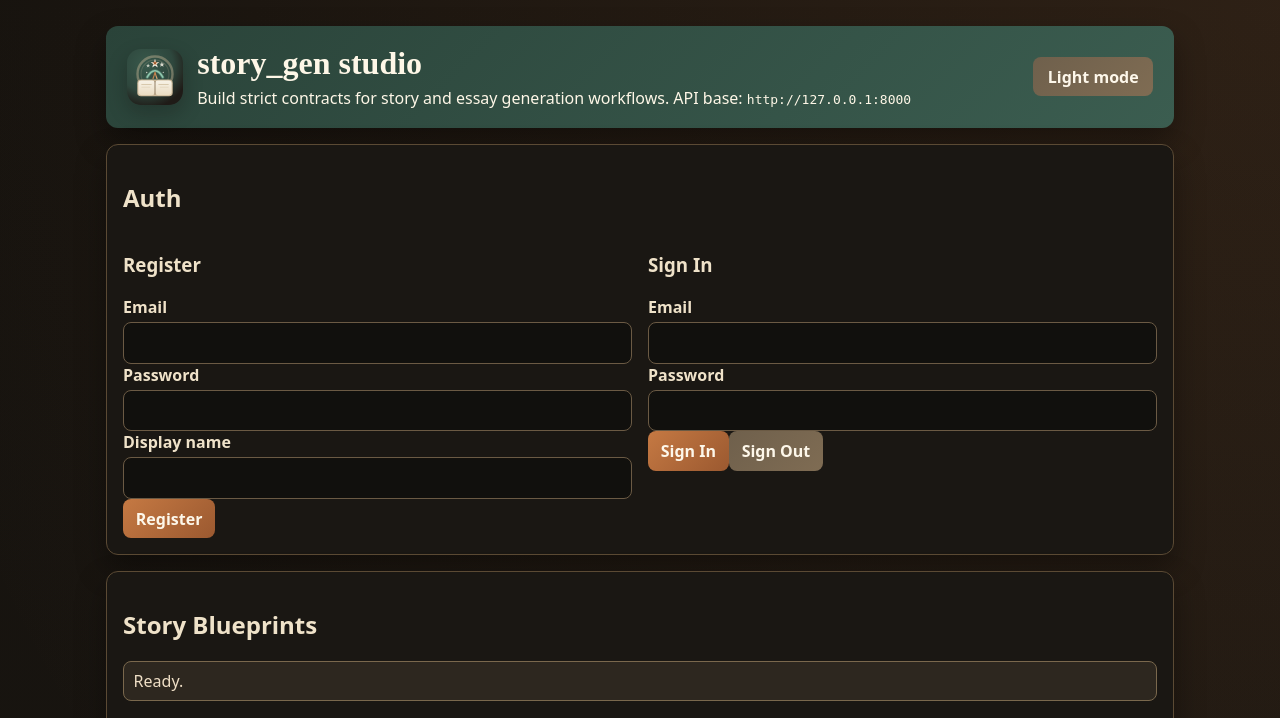
Test: App › handles registration errors
The width and height of the screenshot is (1280, 718).
Step 1. Type "writer@example.com" into the 1st field labelled "Email" → (378, 343), box [123,322,632,364]
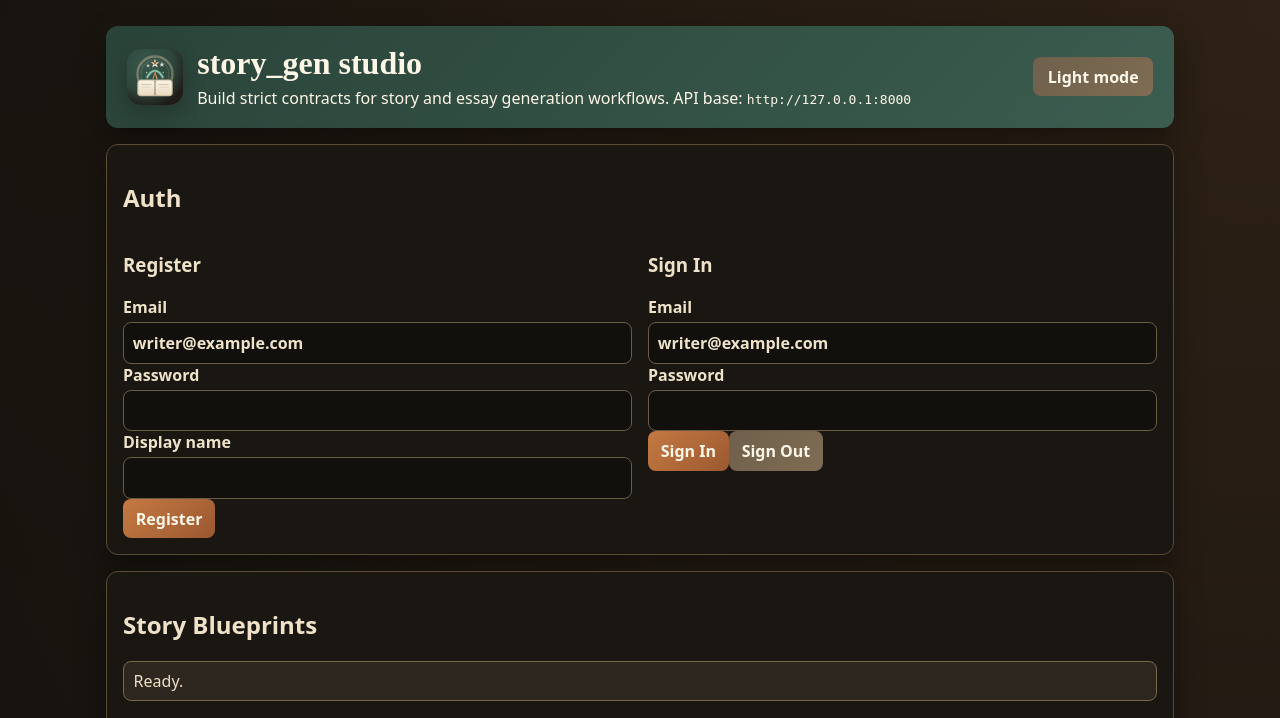
Step 2. Type "secret123" into the 1st password field labelled "Password" → (378, 410), box [123,390,632,431]
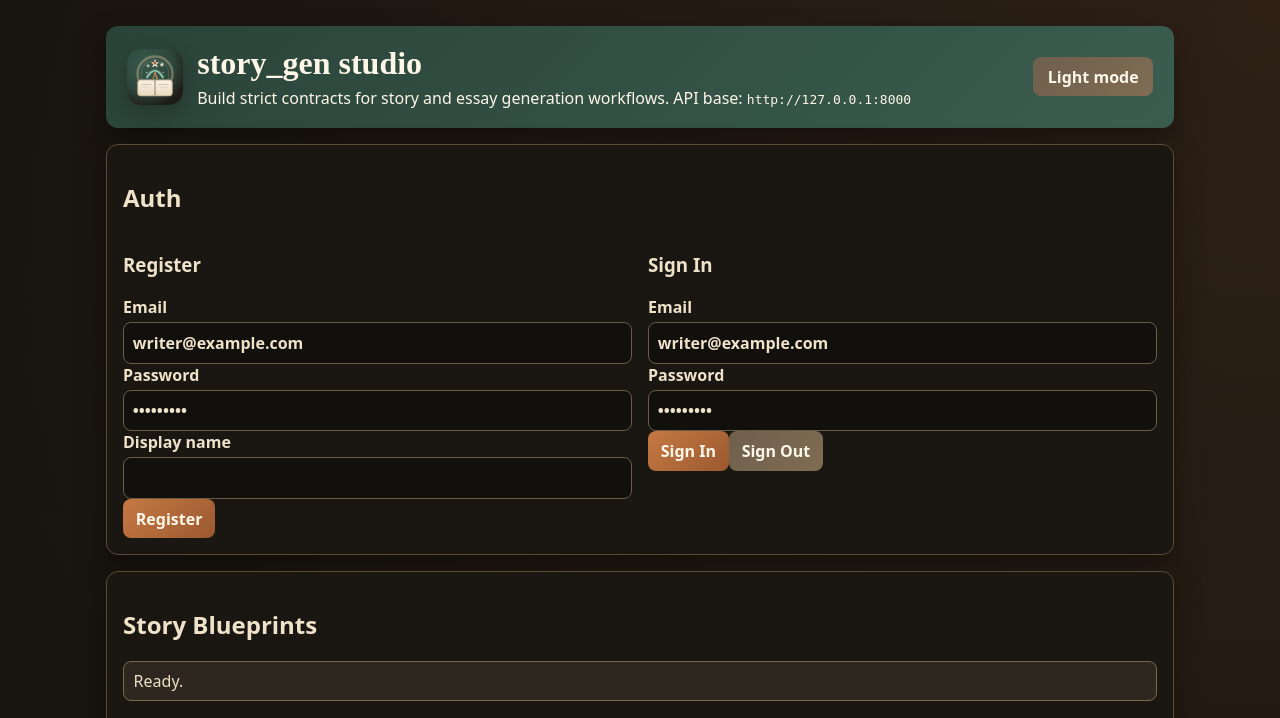
Step 3. Click the button "Register" → click(169, 519), box [123,499,215,538]
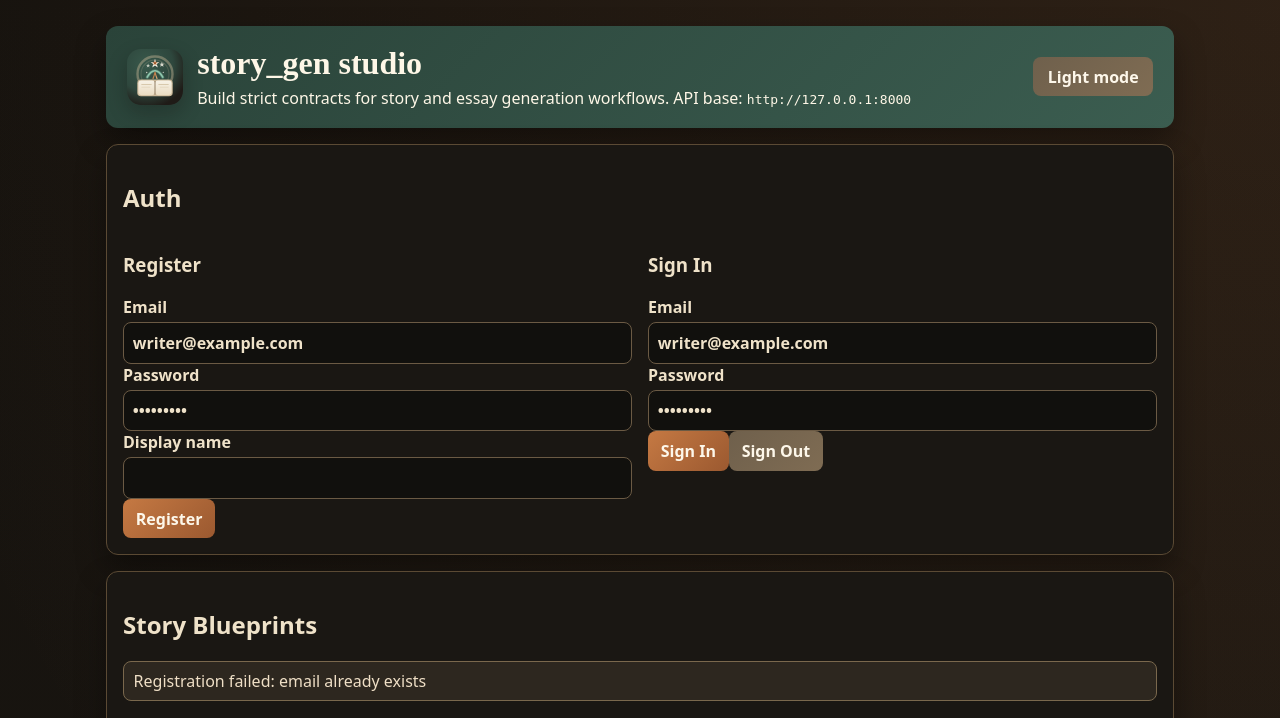
Now the text "Registration failed: email already exists" is shown, box [123,661,1157,701]
